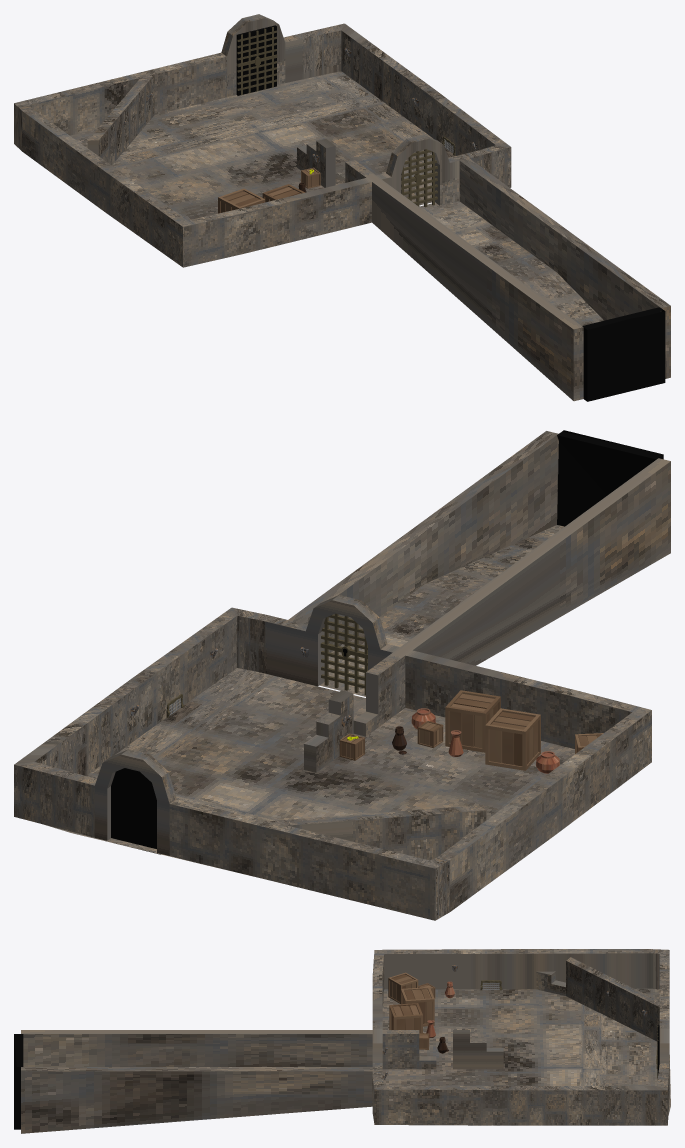
The model's file is baseRoom_1806.glb.
3 views of the same model, one above another, from view 1: azimuth 30°, elevation 25°; view 2: azimuth 150°, elevation 25°; view 3: azimuth 270°, elevation 25° (orthographic). The views are drawn at different scales.
Visible parts, largest first — view 1: Walls, Plane, NextRoom, Entrance, Exit Gate.001, Exit Gate, Cube.014; view 2: Walls, Plane, NextRoom, Entrance, Cube.014, Exit Gate, Cube.004; view 3: Walls, Plane, Cube.004, Cube.014, NextRoom, Cube.002.
Boxes of the visible parts, left/top/right/bottom form: Walls: left=14, top=14, right=670, bottom=401; Plane: left=70, top=71, right=603, bottom=325; NextRoom: left=582, top=307, right=665, bottom=401; Entrance: left=236, top=25, right=276, bottom=95; Exit Gate.001: left=236, top=27, right=277, bottom=95; Exit Gate: left=401, top=149, right=437, bottom=207; Cube.014: left=218, top=188, right=265, bottom=213; Walls: left=14, top=431, right=670, bottom=920; Plane: left=45, top=525, right=574, bottom=872; NextRoom: left=557, top=430, right=663, bottom=526; Entrance: left=111, top=768, right=160, bottom=854; Cube.014: left=485, top=708, right=540, bottom=770; Exit Gate: left=320, top=613, right=367, bottom=695; Cube.004: left=445, top=690, right=500, bottom=752; Walls: left=21, top=949, right=669, bottom=1133; Plane: left=382, top=988, right=670, bottom=1115; Cube.004: left=389, top=1003, right=422, bottom=1032; Cube.014: left=401, top=987, right=434, bottom=1026; NextRoom: left=14, top=1034, right=23, bottom=1129; Cube.002: left=388, top=972, right=418, bottom=1003.
Size of what is drawn, in the model's own units: 17.05 by 4.97 by 33.56.
10 materials, 7 textured.
